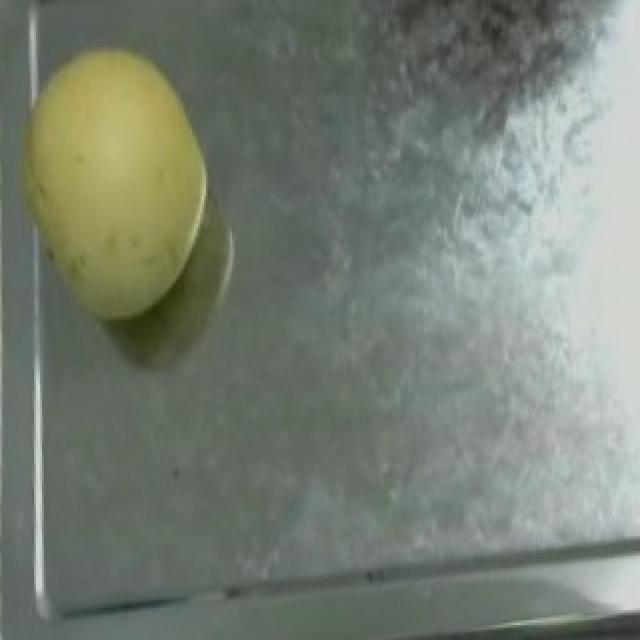Fruit: (0, 15, 230, 335)
